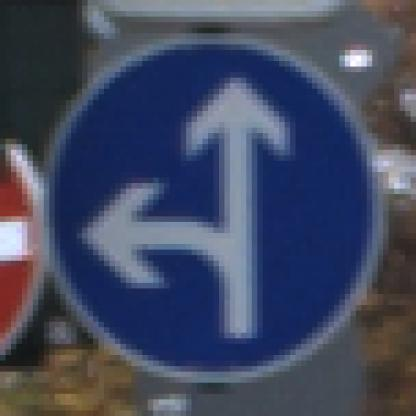Straight or Left: (39, 34, 384, 384)
